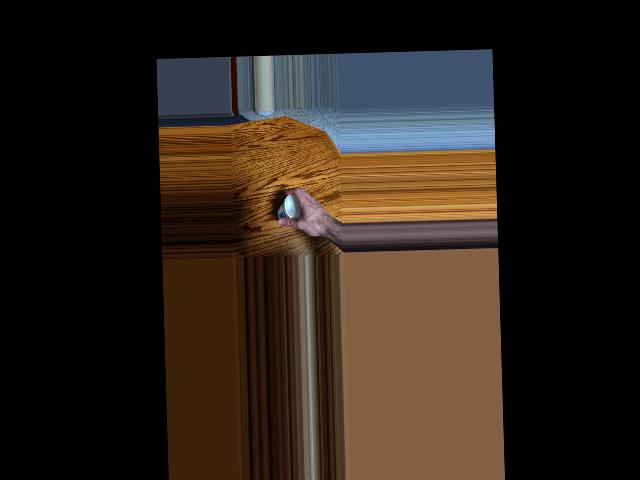cotage: (277, 194, 303, 227)
